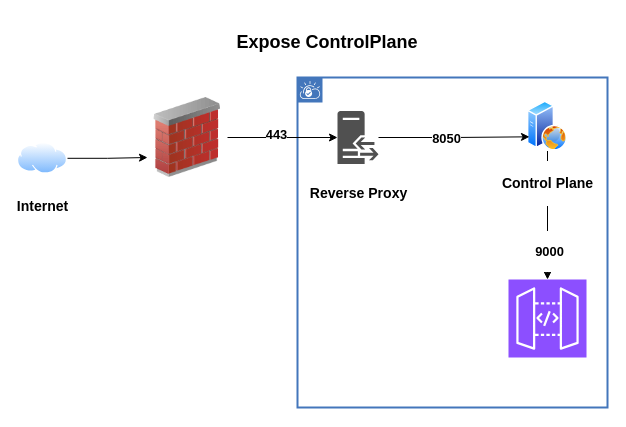
Some shapes in this 626 by 427 pixel diagram are drawn without their labels. Here are the shapes that lost their labels. From the top down, the box of each, then its label:
(147, 97, 227, 177): HTTPS / 443
(296, 76, 608, 408): VPC
